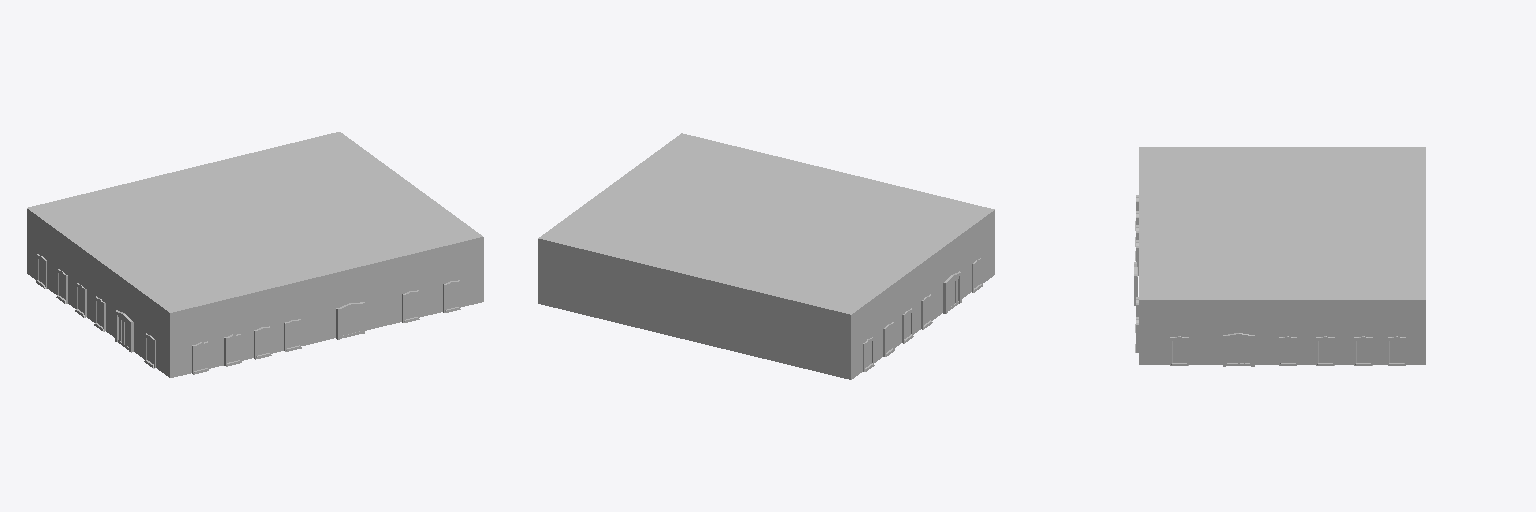
The model's file is edificio111.obj.
The picture shows the model from 3 angles: view 1: azimuth 30°, elevation 25°; view 2: azimuth 150°, elevation 25°; view 3: azimuth 270°, elevation 25°; orthographic projection.
Parts seen in each view (by area): view 1: Cubo; view 2: Cubo; view 3: Cubo.
Boxes of the visible parts, x1=… form: Cubo: x1=27, y1=132, x2=483, y2=377; Cubo: x1=538, y1=133, x2=994, y2=379; Cubo: x1=1134, y1=147, x2=1425, y2=366.
Size of the model in its own units: 15.05 by 2.96 by 11.94.